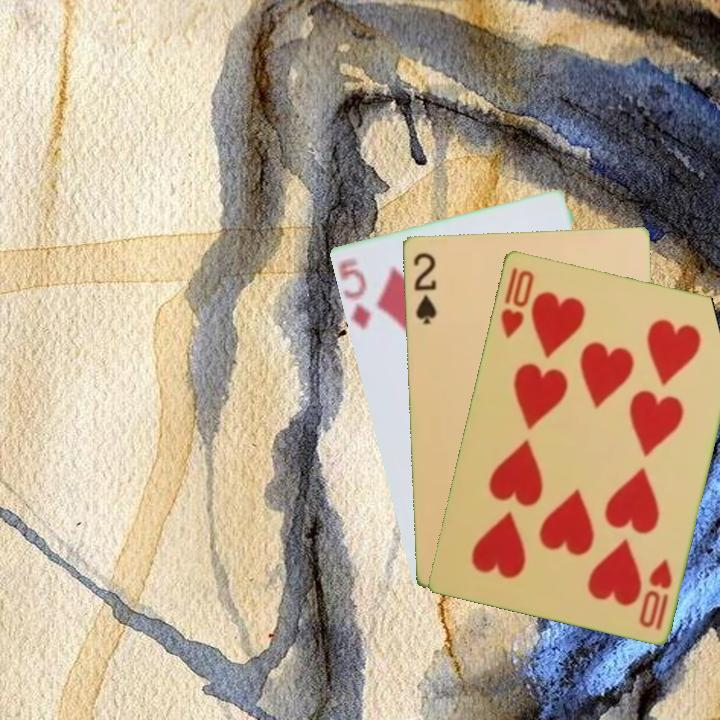10h: (497, 263, 537, 341), (635, 555, 675, 633)
2s: (409, 249, 439, 327)
5d: (334, 254, 373, 333)
